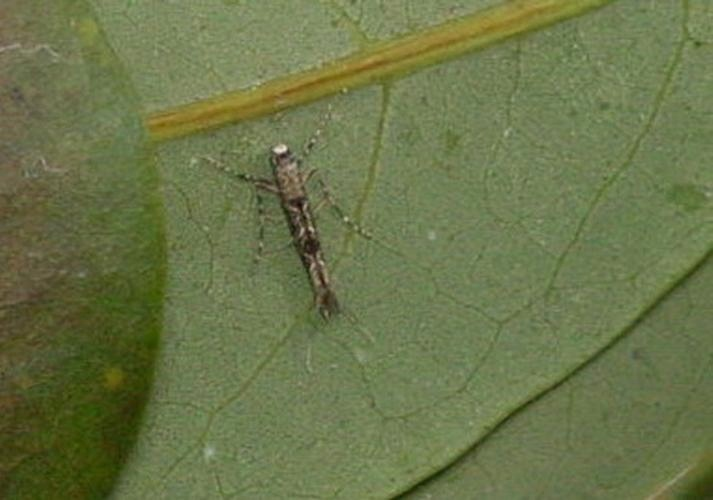Borer: (226, 121, 362, 328)
